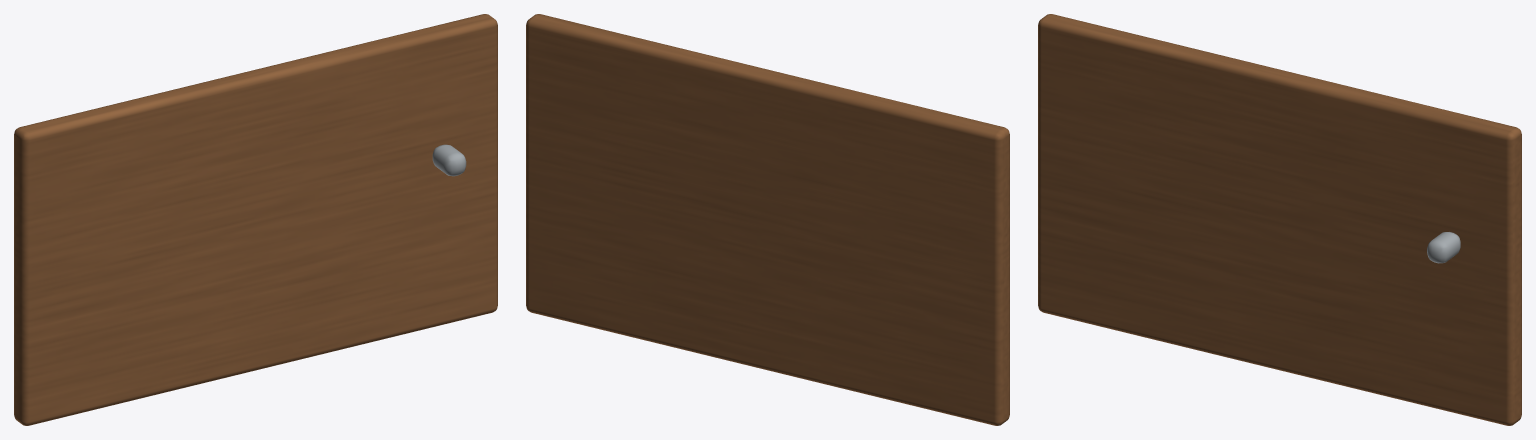
Rendered from door.glb.
3 renders of one model, left to right at view 1: azimuth 30°, elevation 25°; view 2: azimuth 150°, elevation 25°; view 3: azimuth 330°, elevation 25°, orthographic.
Visible parts, largest first — view 1: door; view 2: door; view 3: door.
Part boxes in pixels (x1,y1,x2,y2): door: (14, 14, 497, 425); door: (526, 14, 1009, 425); door: (1038, 14, 1521, 425).
Bounding box in the file's own units: 0.56 × 0.33 × 0.0625.
Materials: 2 (2 with a texture image).
